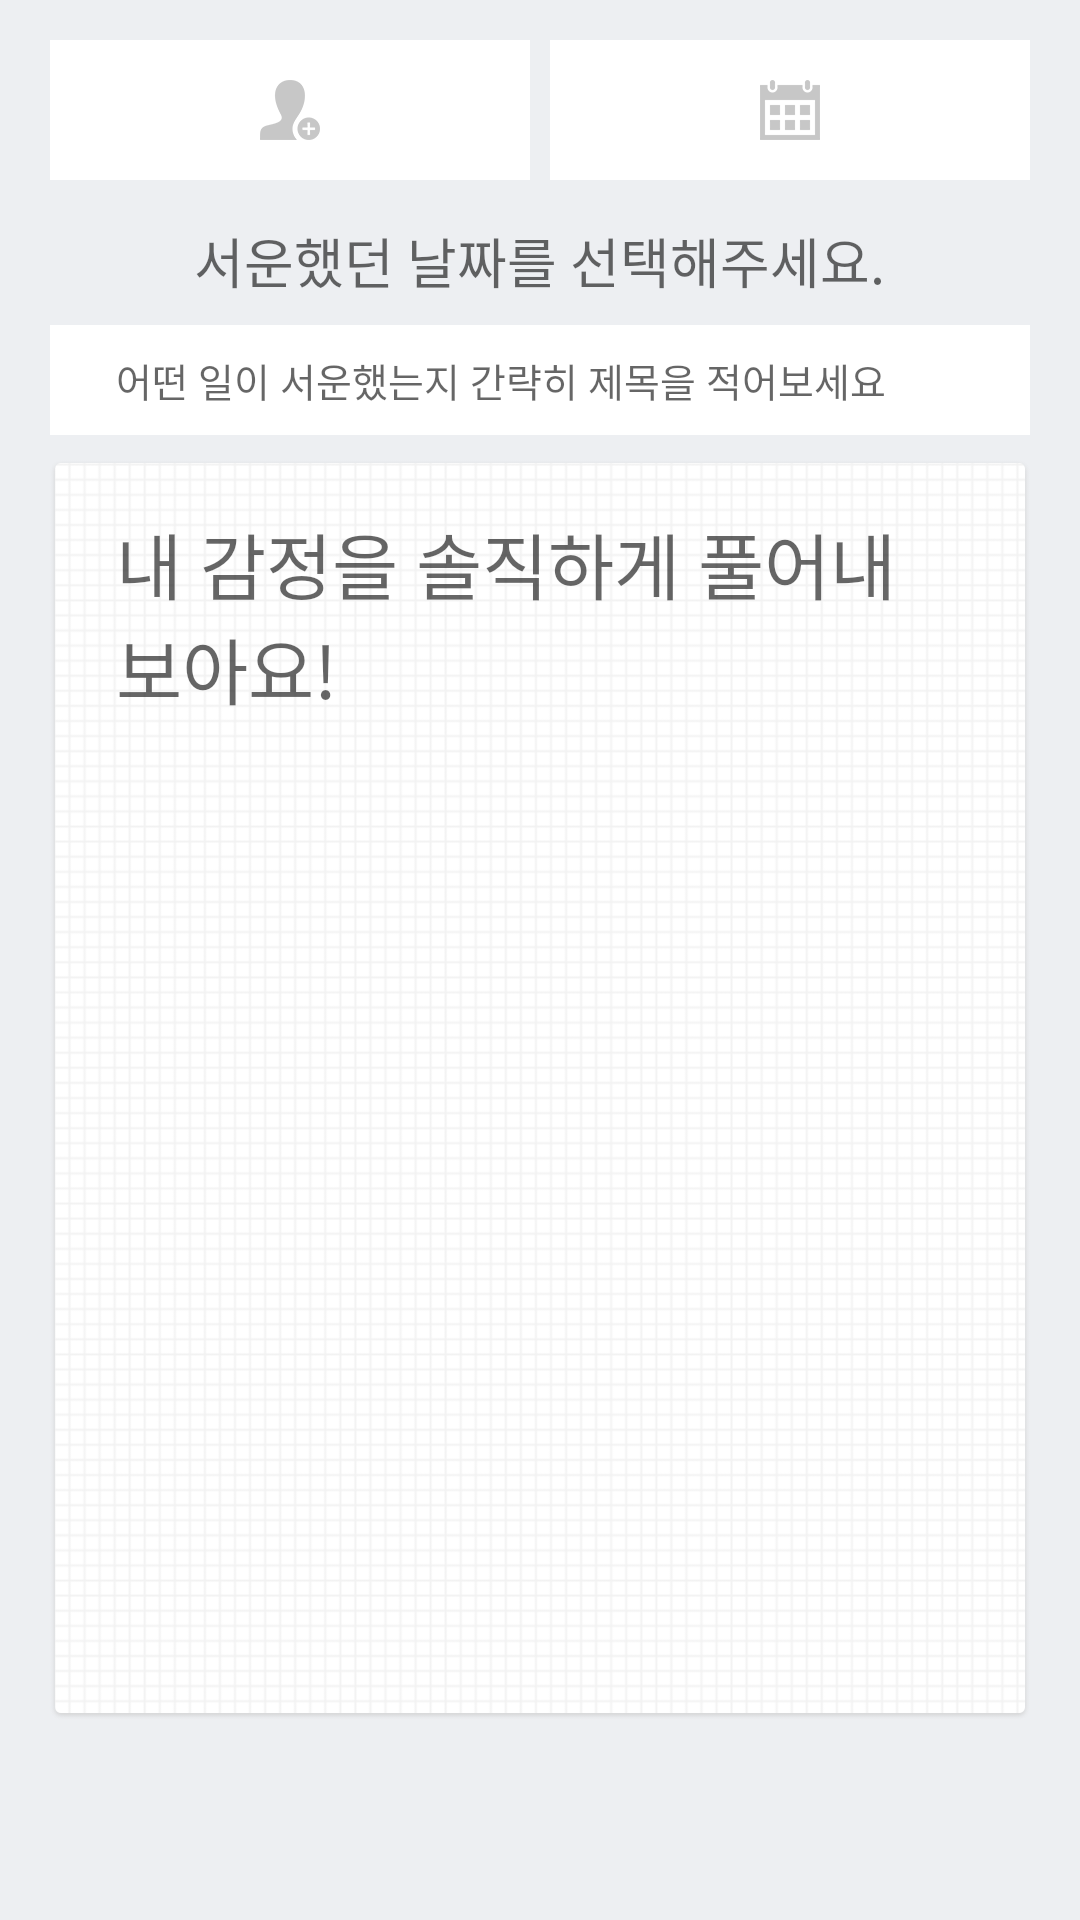

Icon click points for this 1080*1920 phone screenshot, format point (x, y):
date: point (790, 110)
friends: point (290, 110)
